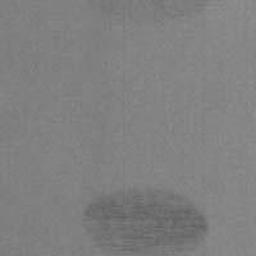Oil spot: (84, 188, 207, 256)
